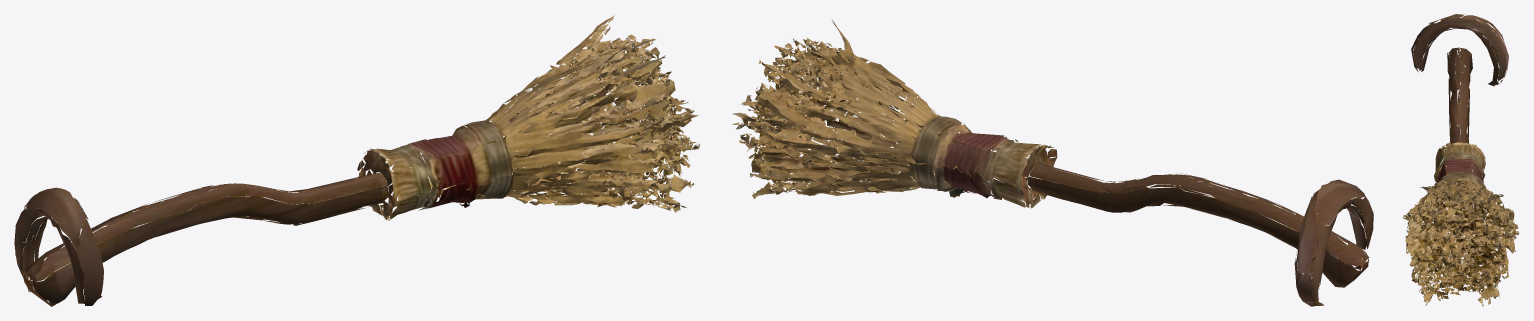
Rendered from lux3d-basic.glb.
The picture shows the model from 3 angles, left to right: view 1: azimuth 30°, elevation 25°; view 2: azimuth 150°, elevation 25°; view 3: azimuth 270°, elevation 25°; orthographic projection. The views are drawn at different scales.
Parts seen in each view (by area): view 1: geometry_0; view 2: geometry_0; view 3: geometry_0.
Boxes of the visible parts, x1=… form: geometry_0: x1=14, y1=15, x2=700, y2=306; geometry_0: x1=732, y1=20, x2=1373, y2=306; geometry_0: x1=1403, y1=14, x2=1518, y2=306.
Size of the model in its own units: 0.2808 by 0.0679 by 0.0648.
Materials: 1 (1 with a texture image).
